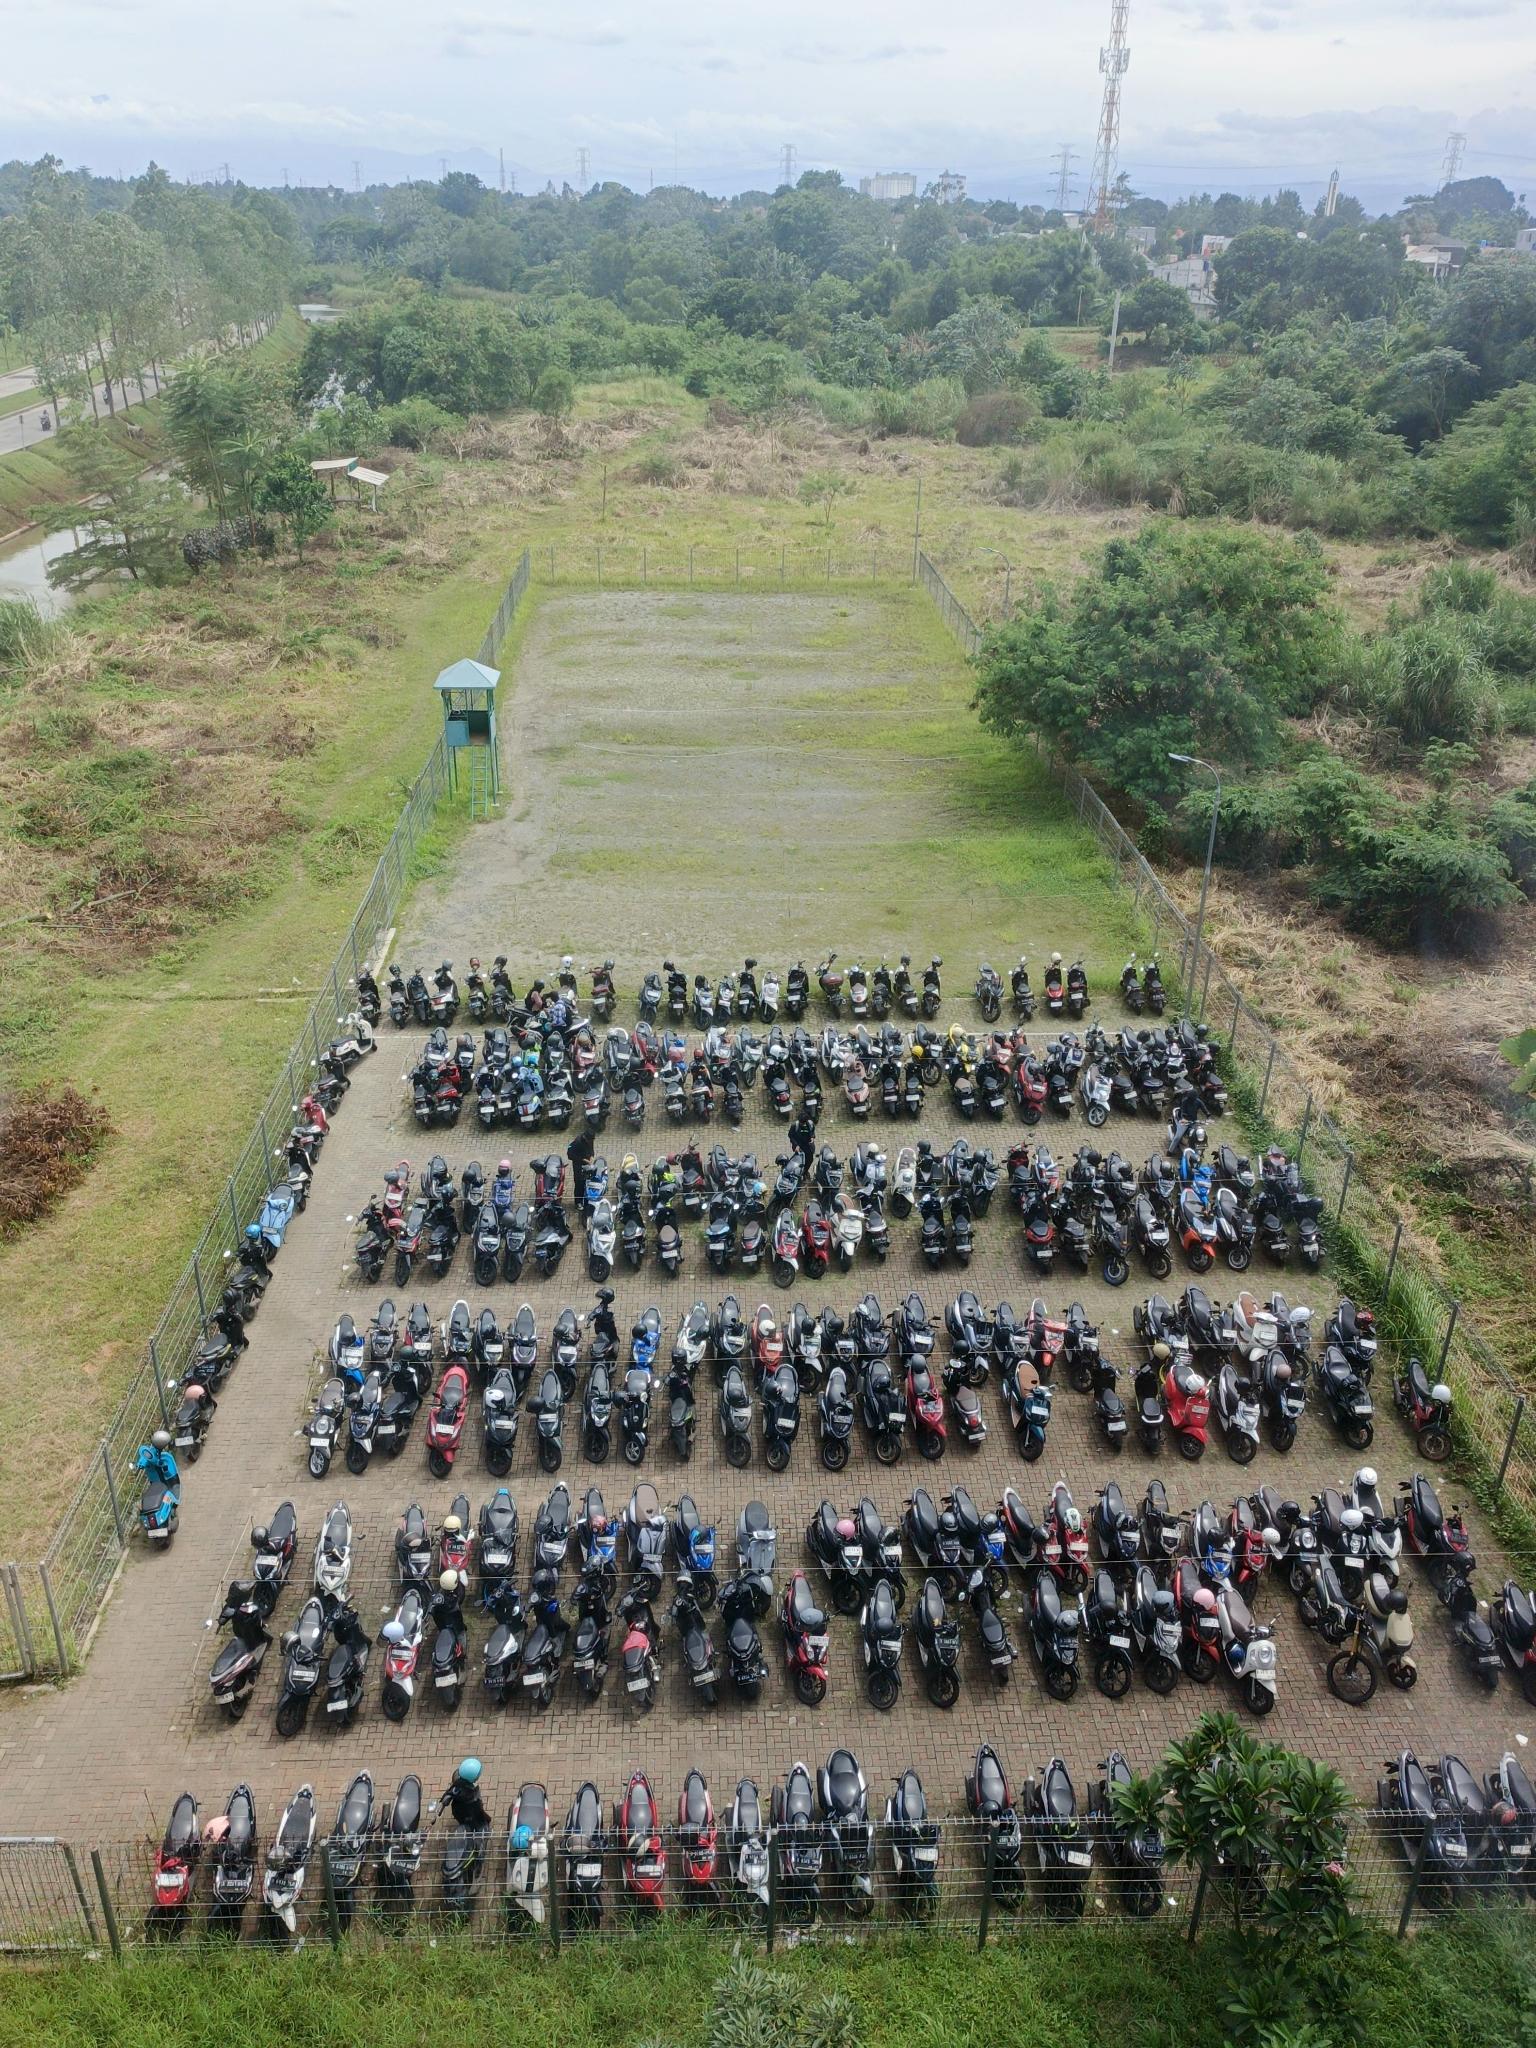motor: (1296, 1556, 1379, 1705), (607, 1763, 676, 1937), (815, 1742, 881, 1919), (963, 1735, 1029, 1904), (883, 1761, 949, 1921), (715, 1767, 776, 1937), (765, 1756, 824, 1927), (319, 1766, 379, 1934), (495, 1771, 557, 1934), (555, 1767, 611, 1942), (432, 1755, 490, 1924), (144, 1782, 203, 1940), (200, 1774, 257, 1940), (673, 1766, 726, 1940), (1441, 1558, 1507, 1696), (1021, 1567, 1086, 1709), (1215, 1580, 1281, 1716), (774, 1566, 836, 1711), (1396, 1469, 1471, 1584), (854, 1577, 913, 1717), (907, 1572, 966, 1713), (263, 1775, 313, 1940), (962, 1561, 1026, 1688), (1126, 1559, 1186, 1696), (1365, 1567, 1426, 1700), (210, 1584, 268, 1721), (1310, 1337, 1378, 1453), (378, 1769, 426, 1930), (1391, 1353, 1459, 1464), (1171, 1555, 1225, 1695), (807, 1495, 866, 1617), (1083, 1563, 1136, 1698), (665, 1587, 723, 1709), (720, 1576, 776, 1701), (426, 1571, 473, 1716), (900, 1482, 968, 1580), (1346, 1466, 1407, 1574), (134, 1429, 184, 1561), (278, 1596, 323, 1737), (618, 1584, 665, 1719), (1160, 1355, 1215, 1467), (479, 1576, 524, 1711), (329, 1596, 376, 1727), (994, 1479, 1060, 1571), (1212, 1358, 1265, 1469), (757, 1363, 808, 1476), (384, 1585, 424, 1729), (1000, 1356, 1052, 1467), (195, 1288, 248, 1395), (248, 1496, 295, 1617), (731, 1496, 779, 1611), (1260, 1350, 1310, 1459), (1250, 1477, 1320, 1556), (944, 1480, 1010, 1563), (810, 1366, 860, 1474), (1044, 1482, 1094, 1590), (1086, 1469, 1144, 1561), (1181, 1487, 1236, 1584), (860, 1361, 907, 1474), (521, 1590, 566, 1706), (671, 1493, 724, 1592), (387, 1492, 436, 1600), (479, 1366, 524, 1480), (1128, 1353, 1173, 1467), (620, 1479, 665, 1592), (169, 1366, 221, 1464), (227, 1221, 276, 1326), (573, 1585, 615, 1706), (905, 1351, 950, 1463), (1136, 1476, 1187, 1572), (302, 1372, 345, 1487), (715, 1364, 760, 1472), (1496, 1579, 1536, 1700), (942, 1351, 989, 1455), (1016, 1746, 1079, 1822), (474, 1484, 521, 1585), (428, 1363, 468, 1480), (657, 1361, 702, 1464), (1320, 1295, 1381, 1371), (1094, 1358, 1133, 1477), (528, 1363, 568, 1477), (615, 1364, 658, 1469), (1307, 1482, 1363, 1563), (378, 1363, 419, 1471), (311, 1498, 353, 1606), (1091, 1195, 1136, 1292), (1178, 1280, 1239, 1351), (857, 1490, 908, 1574), (1129, 1190, 1176, 1282), (1087, 1745, 1146, 1817), (531, 1479, 573, 1579), (1213, 1184, 1258, 1276), (499, 1300, 542, 1393), (581, 1361, 618, 1471), (1375, 1743, 1436, 1809), (1173, 1185, 1217, 1276), (1021, 1293, 1066, 1380), (1020, 1180, 1060, 1277), (1221, 1487, 1271, 1564), (576, 1488, 621, 1574), (349, 1197, 390, 1288), (1225, 1288, 1283, 1355), (941, 1290, 999, 1356), (1054, 1184, 1096, 1274), (545, 1305, 586, 1398), (1431, 1745, 1491, 1808), (424, 1184, 463, 1280), (437, 1490, 474, 1590), (347, 1367, 379, 1482), (326, 1298, 365, 1393), (705, 1292, 749, 1376), (1063, 1297, 1100, 1395), (534, 1193, 576, 1279), (668, 1132, 708, 1219), (645, 1190, 686, 1277), (582, 1287, 623, 1374), (763, 1203, 802, 1293), (1133, 1287, 1189, 1348), (1291, 1188, 1331, 1274), (466, 1195, 502, 1290), (402, 1298, 437, 1393), (366, 1290, 402, 1385), (891, 1288, 939, 1358), (499, 1193, 536, 1284), (733, 1185, 770, 1276), (1483, 1745, 1536, 1808), (579, 1197, 616, 1285), (703, 1187, 739, 1279), (797, 1195, 834, 1282), (1255, 1190, 1294, 1272), (626, 1297, 668, 1372), (1268, 1288, 1313, 1358), (392, 1200, 426, 1292), (473, 1301, 507, 1393), (326, 1009, 379, 1068), (289, 1093, 331, 1166), (854, 1288, 897, 1356), (673, 1295, 712, 1371), (618, 1179, 649, 1274), (831, 1188, 865, 1274), (766, 1148, 805, 1222), (860, 1179, 892, 1268), (918, 1184, 949, 1276), (684, 1048, 720, 1127), (989, 1293, 1029, 1363), (889, 1138, 921, 1224), (779, 1298, 821, 1363), (458, 951, 494, 1027), (440, 1297, 474, 1376), (310, 1050, 350, 1116), (582, 955, 620, 1026), (1013, 1053, 1049, 1127), (978, 1047, 1010, 1127), (260, 1182, 292, 1263), (947, 1187, 978, 1271), (847, 1137, 892, 1193), (428, 956, 463, 1027), (745, 1297, 781, 1367), (1066, 1138, 1100, 1213), (816, 1298, 857, 1359), (970, 956, 1005, 1026), (839, 1051, 874, 1121), (945, 1051, 979, 1124), (908, 1021, 945, 1087), (813, 955, 849, 1022), (1202, 1040, 1231, 1122), (470, 1059, 502, 1132), (1081, 1059, 1113, 1132), (810, 1142, 847, 1205), (1046, 1050, 1076, 1124), (762, 1056, 794, 1126), (286, 1138, 316, 1211), (658, 1056, 689, 1129), (1137, 1150, 1178, 1205), (381, 1155, 413, 1222), (902, 1045, 929, 1124), (582, 1059, 611, 1134), (1134, 1058, 1168, 1121), (381, 961, 411, 1030), (618, 1064, 649, 1134), (976, 1140, 1004, 1218), (545, 1063, 574, 1135), (458, 1159, 486, 1235), (1007, 955, 1037, 1022), (915, 951, 944, 1022), (350, 968, 384, 1027), (665, 953, 691, 1030), (700, 1140, 739, 1192), (478, 1027, 508, 1092), (1212, 1137, 1255, 1182), (516, 1063, 542, 1138), (799, 1055, 826, 1126), (1100, 1142, 1139, 1190), (410, 1063, 436, 1134), (1002, 1134, 1033, 1193), (818, 1022, 847, 1085), (570, 1026, 597, 1092), (436, 1064, 463, 1130), (529, 1150, 568, 1197), (490, 953, 516, 1022), (879, 1051, 905, 1121), (600, 1024, 631, 1082), (942, 1134, 978, 1184), (416, 1153, 455, 1198), (632, 964, 662, 1024), (733, 1024, 762, 1084), (613, 1150, 649, 1198), (870, 951, 894, 1021), (1066, 953, 1091, 1022), (721, 1061, 745, 1130), (734, 956, 760, 1021), (786, 958, 812, 1022), (847, 953, 871, 1021), (894, 951, 918, 1019), (405, 963, 431, 1026), (1258, 1140, 1297, 1182), (1176, 1145, 1215, 1187), (1042, 953, 1066, 1019), (1144, 953, 1168, 1019), (691, 971, 715, 1034), (1033, 1138, 1065, 1185), (644, 1148, 676, 1195), (1058, 1030, 1086, 1085), (631, 1019, 658, 1074), (453, 1030, 476, 1097), (497, 1059, 518, 1130), (758, 964, 783, 1026), (1121, 953, 1144, 1018), (987, 1029, 1013, 1084), (549, 951, 581, 995), (544, 1030, 566, 1092), (942, 1019, 978, 1058), (490, 1158, 520, 1203), (876, 1018, 907, 1059), (423, 1024, 452, 1068), (1176, 1014, 1210, 1051), (1081, 1011, 1113, 1050), (1115, 1072, 1141, 1119), (703, 1024, 736, 1061), (715, 974, 736, 1029), (1150, 1021, 1181, 1058), (520, 1027, 542, 1077), (852, 1024, 884, 1058), (1168, 1056, 1194, 1097), (1115, 1022, 1149, 1051), (789, 1022, 816, 1053), (763, 1021, 791, 1051), (657, 1027, 689, 1050)
